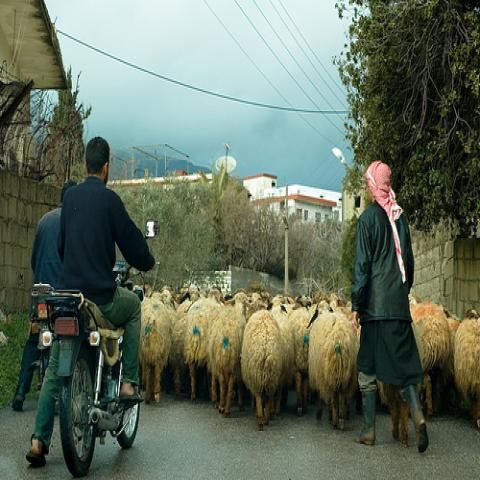motorcycle: (47, 220, 161, 455), (31, 283, 55, 396)
